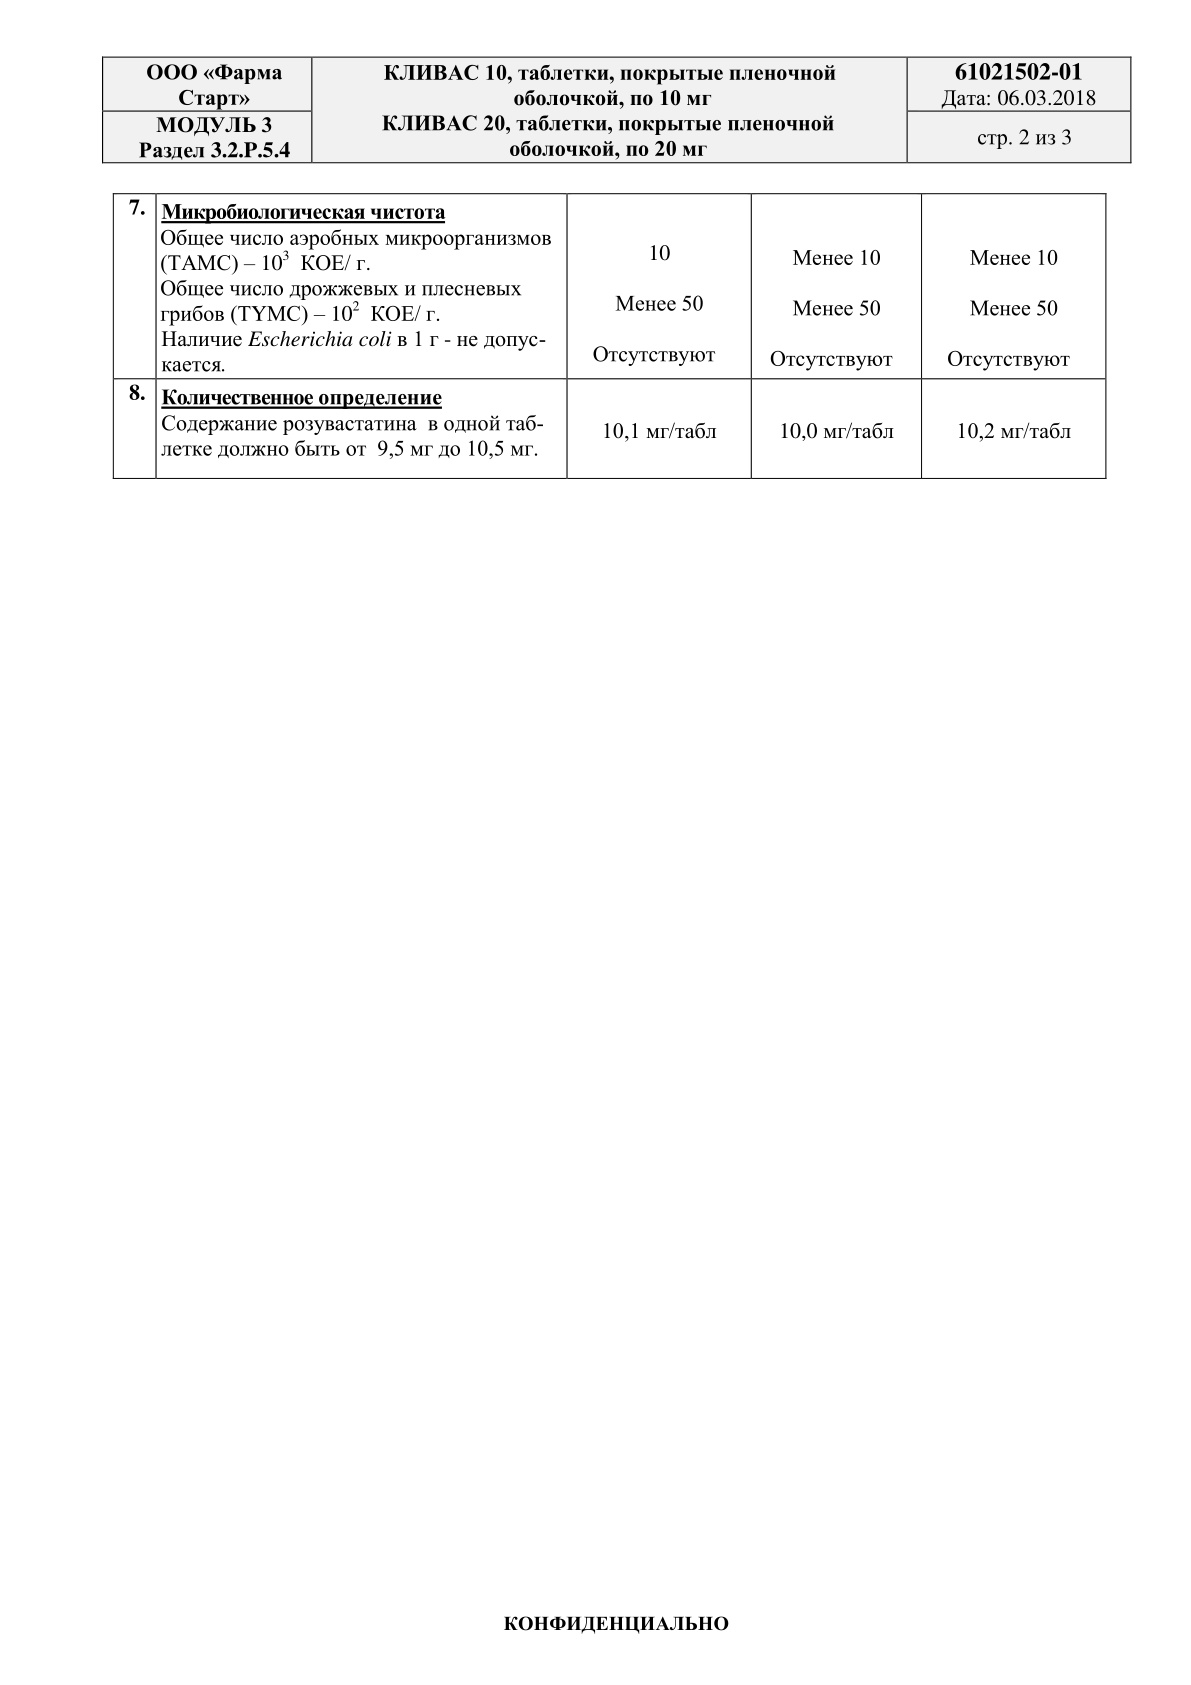full_lined: (111, 192, 1107, 481)
merged_cells: (102, 55, 1132, 164)
